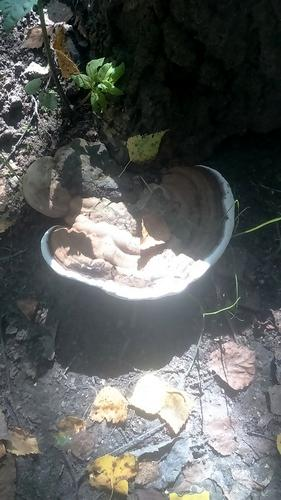Ganoderma - Fruit Body: (35, 158, 237, 304)
